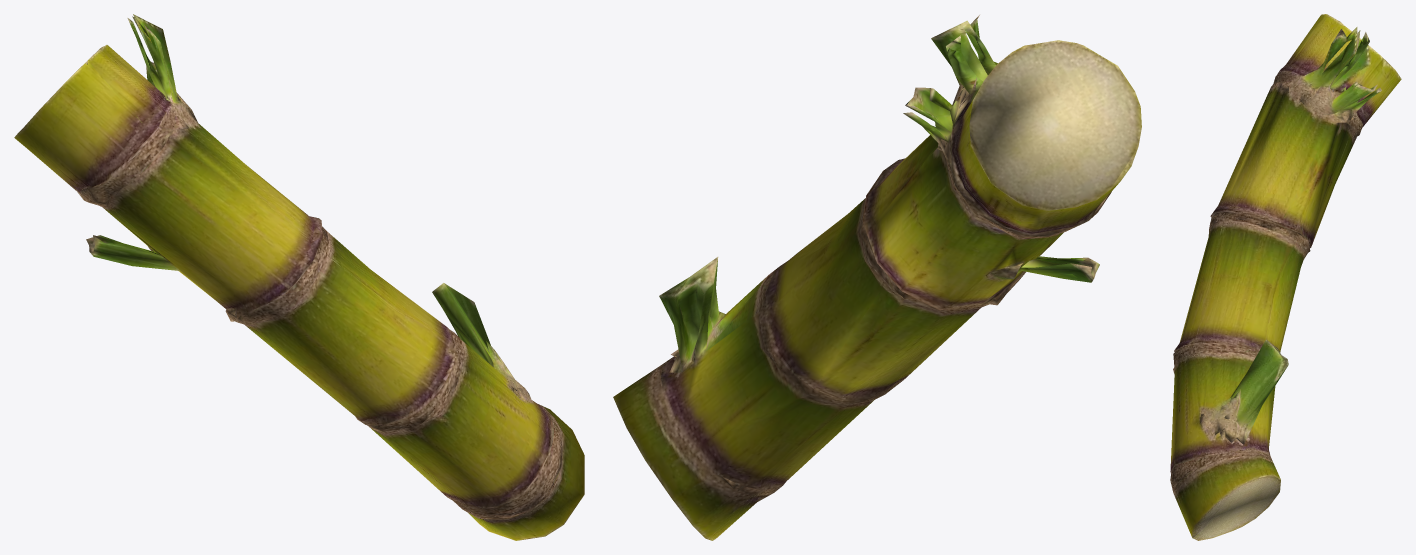
The model's file is cane-piece.glb.
3 views of the same model, side by side, from view 1: azimuth 30°, elevation 25°; view 2: azimuth 150°, elevation 25°; view 3: azimuth 270°, elevation 25° (orthographic). The views are drawn at different scales.
Visible parts, largest first — view 1: Model; view 2: Model; view 3: Model.
Part boxes in pixels (x1,y1,x2,y2): Model: (14,14,584,540); Model: (613,15,1141,540); Model: (1170,14,1401,540).
Bounding box in the file's own units: 1.8 × 1.9 × 0.9883.
Materials: 1 (1 with a texture image).
